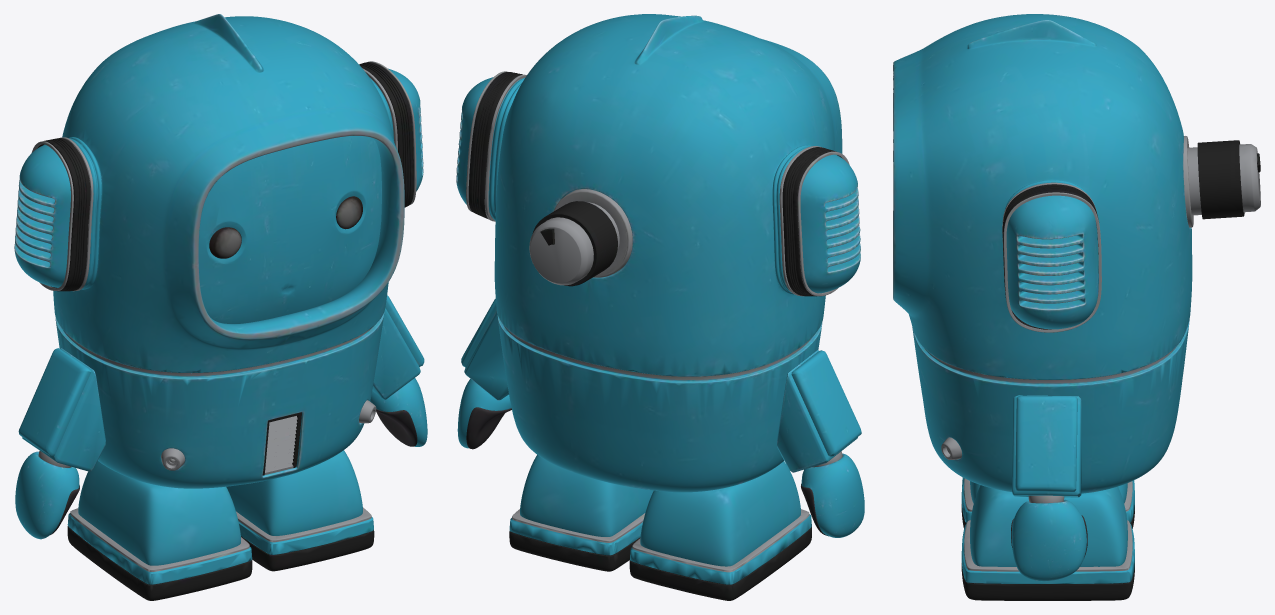
The model's file is robot (1).glb.
3 renders of one model, left to right at view 1: azimuth 30°, elevation 25°; view 2: azimuth 150°, elevation 25°; view 3: azimuth 270°, elevation 25°, orthographic.
Visible parts, largest first — view 1: defaultMaterial; view 2: defaultMaterial; view 3: defaultMaterial.
Boxes of the visible parts, x1=… form: defaultMaterial: x1=14, y1=14, x2=427, y2=600; defaultMaterial: x1=456, y1=14, x2=864, y2=600; defaultMaterial: x1=893, y1=14, x2=1260, y2=600.
Bounding box in the file's own units: 67.29 × 86.03 × 54.35.
1 material, 1 textured.
